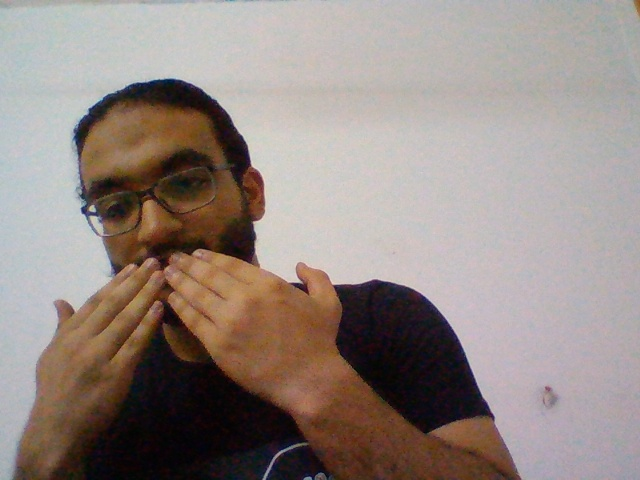Thanks: (16, 245, 372, 430)
